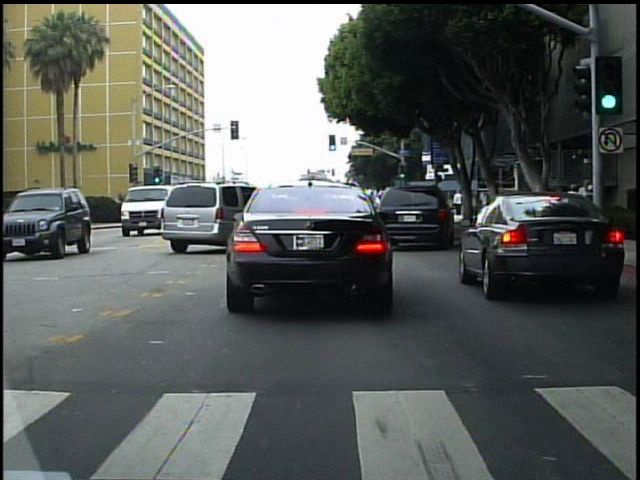person: (576, 174, 595, 234), (452, 186, 463, 216)
